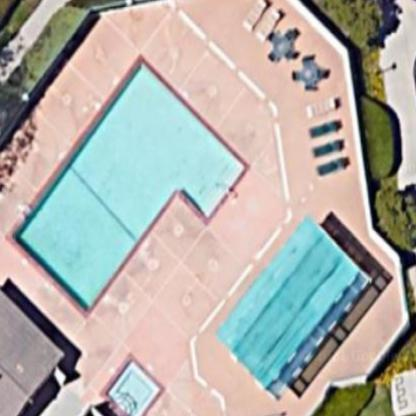pool: (13, 53, 247, 316)
